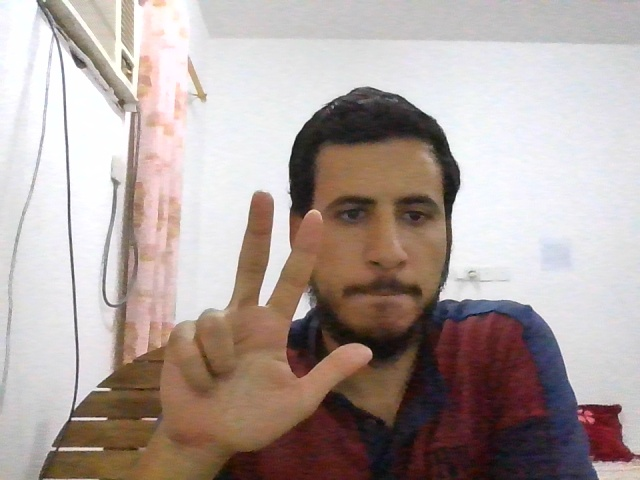Three: (161, 189, 372, 453)
